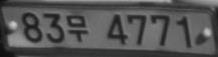1: (174, 15, 195, 48)
3: (43, 12, 65, 43)
4: (106, 13, 128, 45)
7: (149, 13, 170, 46), (128, 13, 147, 45)
8: (20, 11, 43, 42)
무: (65, 14, 89, 43)
